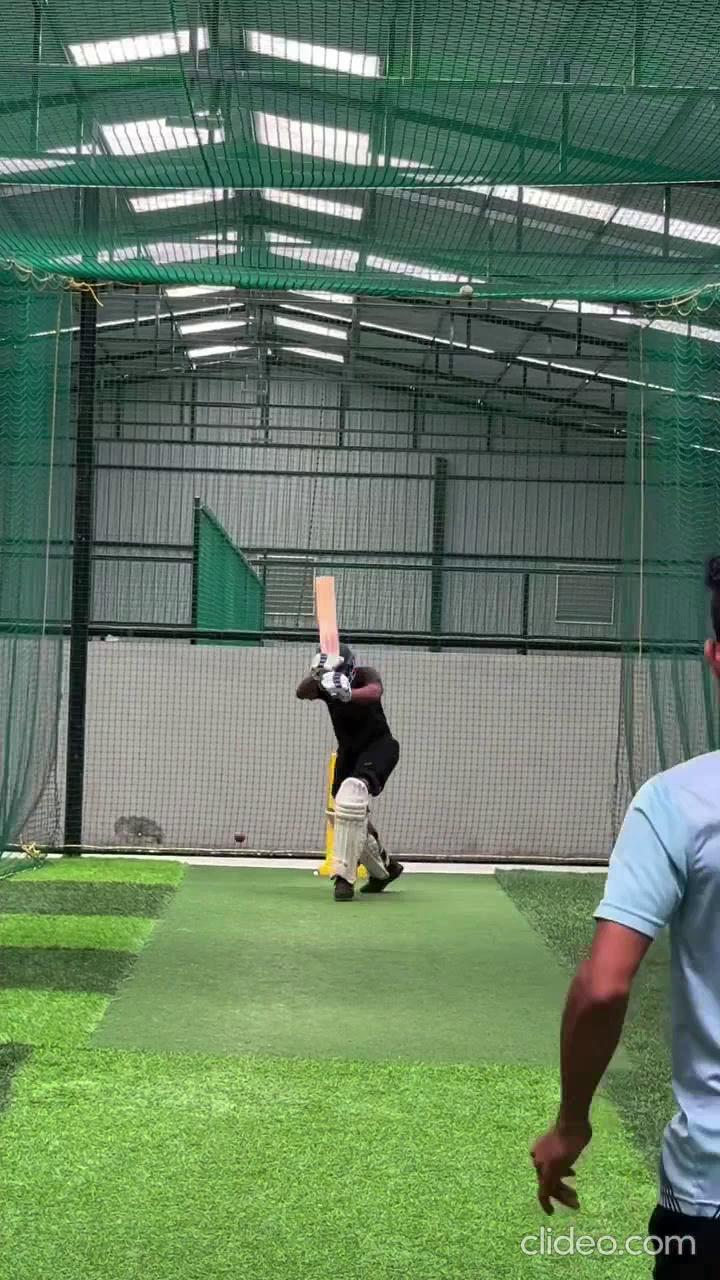bat: (313, 573, 342, 657)
